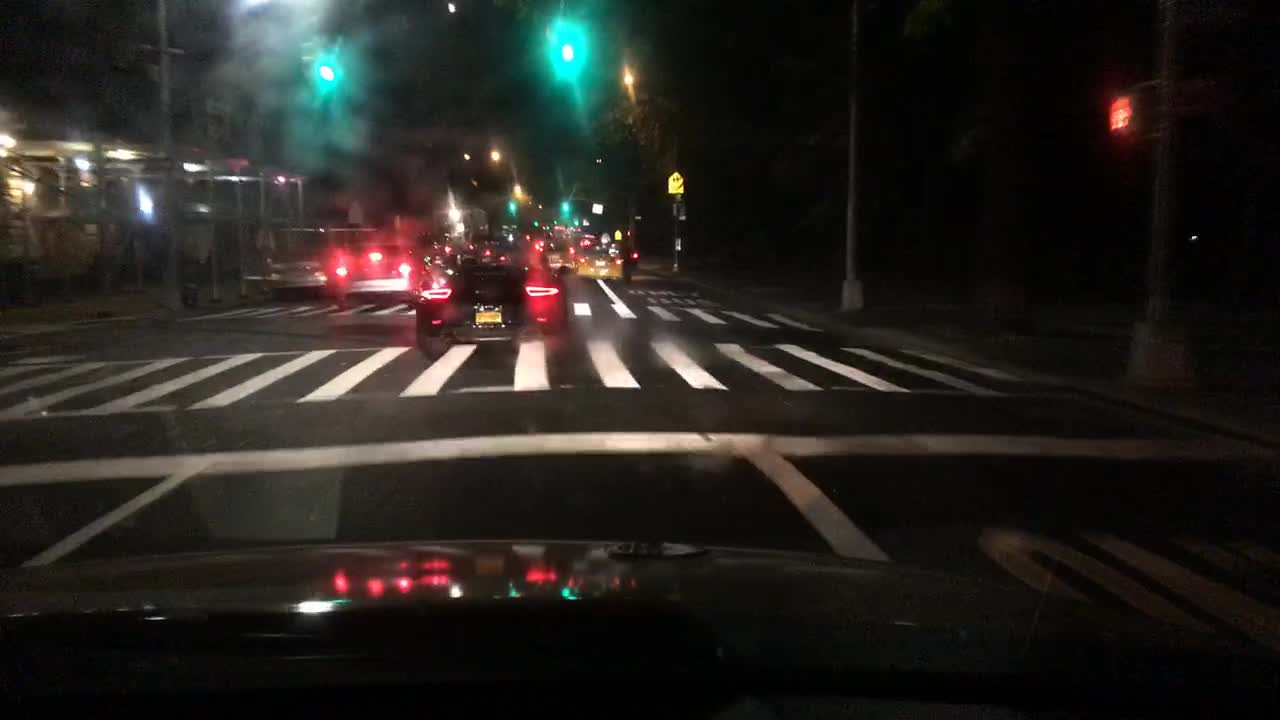car: (413, 236, 574, 359), (269, 223, 381, 300), (334, 239, 438, 309), (576, 243, 634, 285), (538, 237, 577, 272), (602, 238, 642, 266), (579, 238, 592, 247), (572, 226, 580, 232)
traffic light: (1104, 93, 1137, 139), (552, 21, 577, 74), (315, 37, 339, 85), (134, 190, 161, 215), (299, 42, 317, 78), (506, 199, 518, 214), (560, 200, 568, 213), (533, 220, 538, 227)
traffic sign: (205, 97, 233, 115), (666, 171, 684, 193), (141, 162, 174, 170), (672, 202, 684, 216), (590, 202, 602, 214), (614, 229, 621, 239)
